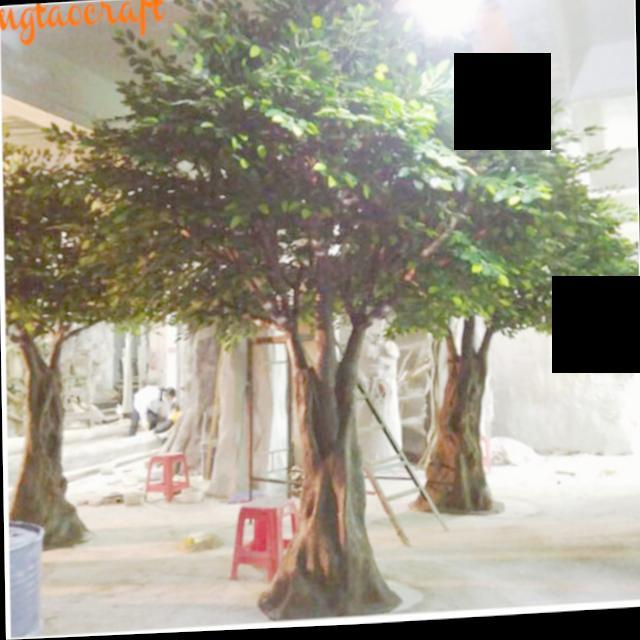Tree: (47, 1, 640, 633), (397, 178, 640, 530), (1, 145, 154, 555)
